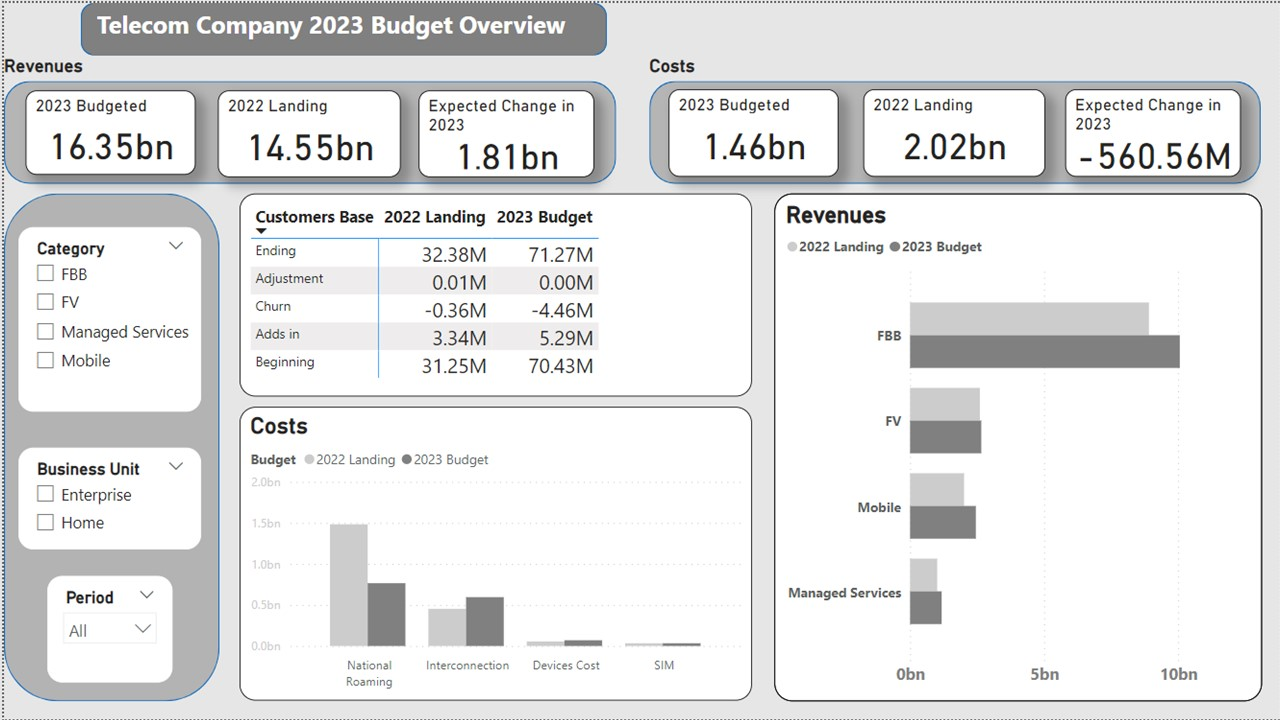

This screenshot's page, from the dashboard's own definition file:
{"tool":"powerbi","page":{"name":"2023 Budget Overview","canvas":[1280,720],"ordinal":0},"visuals":[{"type":"shape","box":[77.2,0,527,53.1],"z":0},{"type":"shape","box":[0,191.8,215.9,510.2],"z":1000},{"type":"clusteredColumnChart","title":"Costs","fields":{"Category":["Costs.mapping"],"Series":["Costs.Budget"],"Y":["Sum(Costs.value)"]},"box":[236.4,406.4,513.8,295.5],"z":2000},{"type":"shape","title":"Revenues","box":[0,53.5,613.4,129],"z":3000},{"type":"clusteredBarChart","title":"Revenues","fields":{"Series":["Revenues.Budget"],"Category":["Revenues.Type"],"Y":["Sum(Revenues.Value)"]},"box":[771.9,191.8,488.4,510.2],"z":4000},{"type":"card","title":"2023 Budgeted","fields":{"Values":["Sum(Revenues.Value)"]},"box":[22,88,170,85],"z":5000},{"type":"slicer","fields":{"Values":["Dim_Type.Type"]},"box":[14.5,225.5,183.3,185.7],"z":6000},{"type":"slicer","fields":{"Values":["Dim_quarters.quarters"]},"box":[43.4,576.5,125.4,107.3],"z":7000},{"type":"slicer","fields":{"Values":["Dim_BusinessUnit.BU"]},"box":[14.5,447.4,183.3,102.5],"z":8000},{"type":"card","title":"2022 Landing","fields":{"Values":["Sum(Revenues.Value)"]},"box":[215,88,183,87],"z":9000},{"type":"card","title":"Expected Change in 2023","fields":{"Values":["_Measures.Variance"]},"box":[416,88,176,87],"z":10000},{"type":"pivotTable","fields":{"Values":["Sum(Customers.Value)"],"Rows":["Customers.Attribute"],"Columns":["Customers.Budget"]},"box":[236.4,191.8,513.8,203.8],"z":11000},{"type":"shape","title":"Costs","box":[646.4,53.1,612.7,129],"z":12000},{"type":"card","title":"2023 Budgeted","fields":{"Values":["Sum(Costs.value)"]},"box":[666,87,170,88],"z":13000},{"type":"card","title":"2022 Landing","fields":{"Values":["Sum(Costs.value)"]},"box":[861,87,182,88],"z":14000},{"type":"card","title":"Expected Change in 2023","fields":{"Values":["_Measures.Costs_var"]},"box":[1064,87,176,88],"z":15000},{"type":"clusteredBarChart","title":"Revenues","fields":{"Series":["Revenues.Budget"],"Y":["Sum(Revenues.Value)"],"Category":["Revenues.Global desc"]},"box":[771.9,191.8,488.4,510.2],"z":16000},{"type":"textbox","box":[88,0,504.1,53.1],"z":17000}]}

Visuals, with their boxes in screenshot pixels (x1, y1, x2, y2), scaled from the page's 1280x720 canvas onto the 1280x720 screenshot:
shape: x1=77, y1=0, x2=604, y2=53
shape: x1=0, y1=192, x2=216, y2=702
"Costs" clusteredColumnChart: x1=236, y1=406, x2=750, y2=702
"Revenues" shape: x1=0, y1=54, x2=613, y2=182
"Revenues" clusteredBarChart: x1=772, y1=192, x2=1260, y2=702
"2023 Budgeted" card: x1=22, y1=88, x2=192, y2=173
slicer - Dim_Type.Type: x1=14, y1=226, x2=198, y2=411
slicer - Dim_quarters.quarters: x1=43, y1=576, x2=169, y2=684
slicer - Dim_BusinessUnit.BU: x1=14, y1=447, x2=198, y2=550
"2022 Landing" card: x1=215, y1=88, x2=398, y2=175
"Expected Change in 2023" card: x1=416, y1=88, x2=592, y2=175
pivotTable - Sum(Customers.Value) x Customers.Attribute: x1=236, y1=192, x2=750, y2=396
"Costs" shape: x1=646, y1=53, x2=1259, y2=182
"2023 Budgeted" card: x1=666, y1=87, x2=836, y2=175
"2022 Landing" card: x1=861, y1=87, x2=1043, y2=175
"Expected Change in 2023" card: x1=1064, y1=87, x2=1240, y2=175
"Revenues" clusteredBarChart: x1=772, y1=192, x2=1260, y2=702
textbox: x1=88, y1=0, x2=592, y2=53
